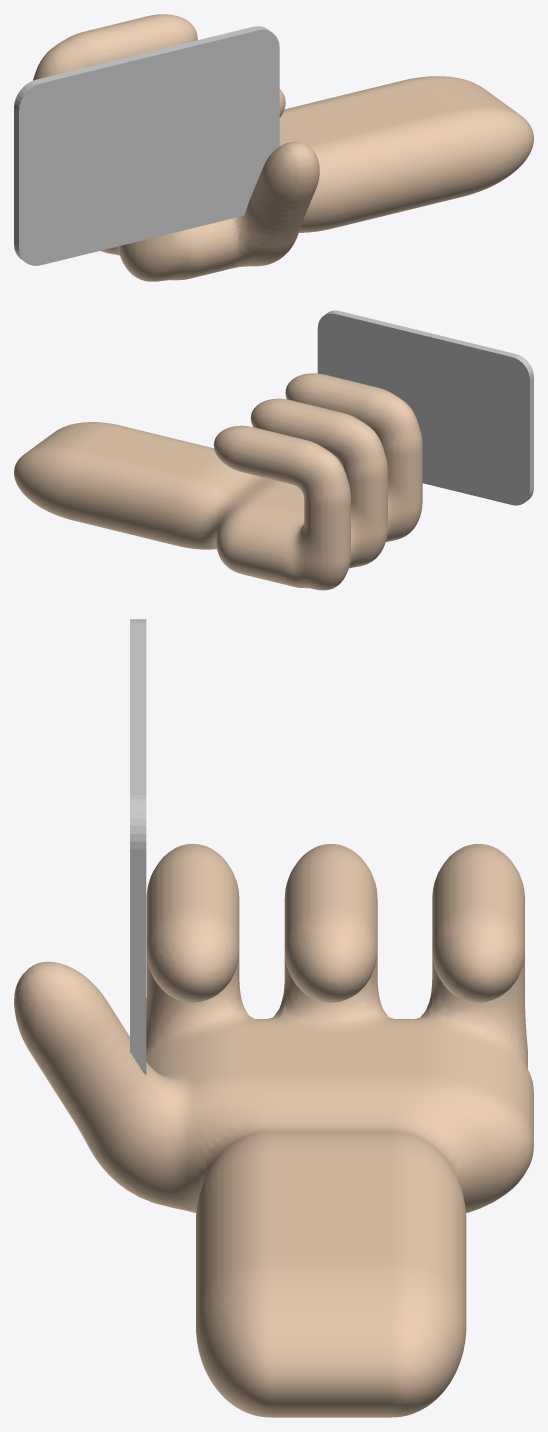
Rendered from hand-ready.glb.
3 views of the same model, one above another, from view 1: azimuth 30°, elevation 25°; view 2: azimuth 150°, elevation 25°; view 3: azimuth 270°, elevation 25° (orthographic). The views are drawn at different scales.
Visible parts, largest first — view 1: Card, Mball.009; view 2: Mball.009, Card; view 3: Mball.009, Card.
Boxes of the visible parts, x1,y1,x2,y2 form: Card: [14, 26, 279, 265]; Mball.009: [33, 14, 533, 281]; Mball.009: [14, 373, 422, 590]; Card: [317, 310, 533, 505]; Mball.009: [14, 843, 533, 1417]; Card: [130, 619, 146, 1074].
Size of the model in its own units: 2.1 by 0.9139 by 1.05.
